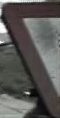Give way: (1, 1, 57, 110)
